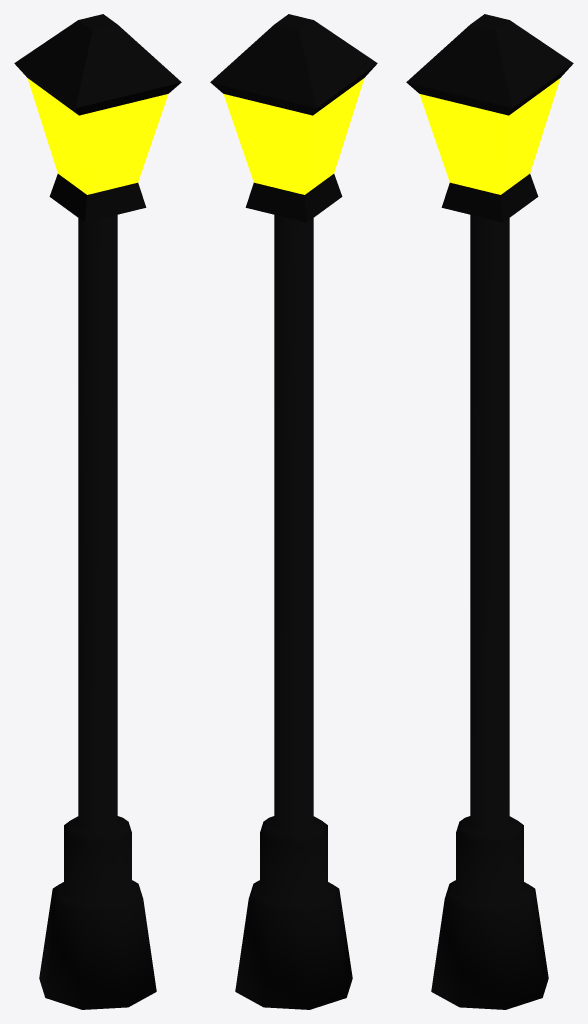
The model's file is Lamp_1.fbx.
3 views of the same model, side by side, from view 1: azimuth 30°, elevation 25°; view 2: azimuth 150°, elevation 25°; view 3: azimuth 330°, elevation 25° (orthographic).
Parts seen in each view (by area): view 1: Cube.303; view 2: Cube.303; view 3: Cube.303.
Boxes of the visible parts, x1=… form: Cube.303: x1=14, y1=14, x2=181, y2=1009; Cube.303: x1=210, y1=14, x2=377, y2=1009; Cube.303: x1=406, y1=14, x2=573, y2=1009.
Size of the model in its own units: 51.38 by 445 by 51.38.
